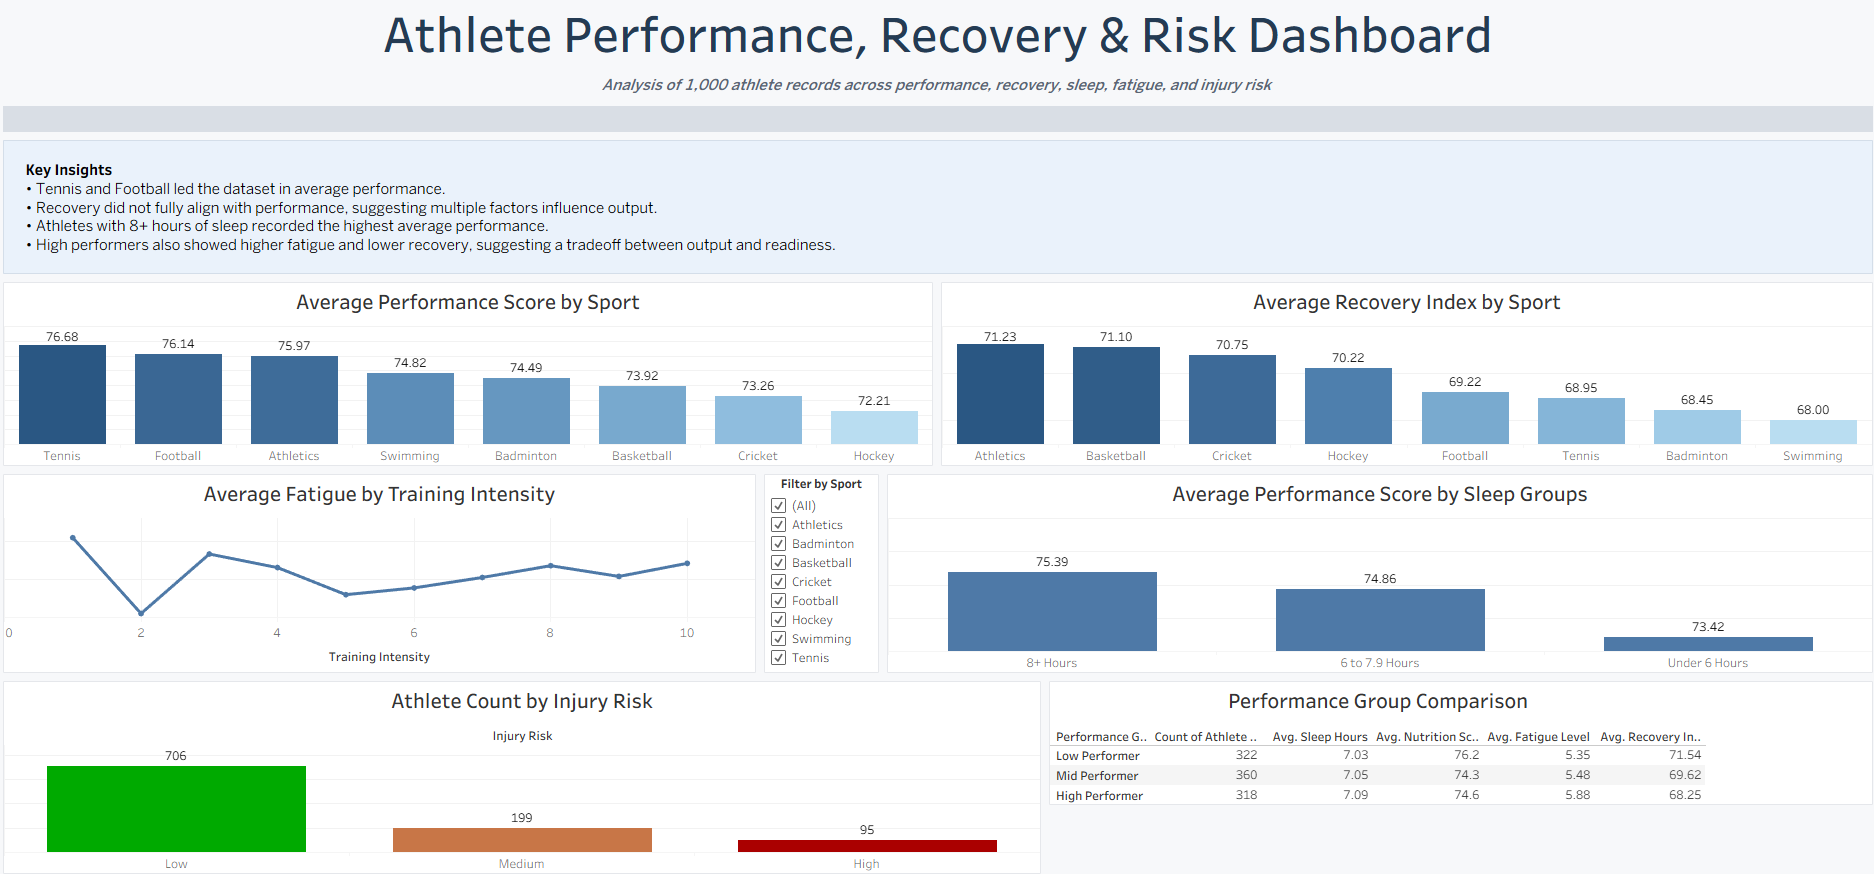

The dashboard page shown, as its layout file describes it:
{"tool":"tableau","page":{"name":"Dashboard 1","canvas":[1000,1000],"units":"permille","ordinal":0},"visuals":[{"type":"text","box":[4.7,8.9,990.6,77.8]},{"type":"text","box":[4.7,86.7,990.6,38.3]},{"type":"blank","box":[4.7,125.1,990.6,38.3]},{"type":"text","box":[4.7,163.4,990.6,158]},{"type":"worksheet","title":"Sheet 1","mark":"Automatic","rows":["performance_score"],"cols":["sport_type"],"box":[4.7,321.4,495,214.3]},{"type":"worksheet","title":"Sheet 1 (2)","mark":"Automatic","rows":["recovery_index"],"cols":["sport_type"],"box":[499.7,321.4,495.6,214.3]},{"type":"worksheet","title":"Sheet 1 (3)","mark":"Automatic","rows":["fatigue_level"],"cols":["training_intensity"],"box":[4.7,535.7,401.4,231]},{"type":"filter","title":"Sheet 1","param":"[federated.0yzj0ue05jbgga1gd9oak1k1bqnd].[none:sport_type:nk]","box":[406.1,535.7,65,231]},{"type":"worksheet","title":"Sheet 1 (4)","mark":"Automatic","rows":["performance_score"],"cols":["Calculation_1243604495970304"],"box":[471,535.7,524.3,231]},{"type":"worksheet","title":"Sheet 5","mark":"Automatic","rows":["athlete_id"],"cols":["injury_risk"],"box":[4.7,766.7,551.8,224.3]},{"type":"worksheet","title":"Sheet 6","mark":"Automatic","rows":["Calculation_1243604498481153"],"box":[556.4,766.7,438.9,224.3]}]}

Visuals, with their boxes on the dashboard's canvas, which has no fixed pixel size, in thousandths of its width and height (x1, y1, x2, y2). These are canvas units, not pixel positions in the 1874x874 screenshot, which may show the page scaled, cropped or inside an application window:
text: l=5, t=9, r=995, b=87
text: l=5, t=87, r=995, b=125
blank: l=5, t=125, r=995, b=163
text: l=5, t=163, r=995, b=321
"Sheet 1" worksheet: l=5, t=321, r=500, b=536
"Sheet 1 (2)" worksheet: l=500, t=321, r=995, b=536
"Sheet 1 (3)" worksheet: l=5, t=536, r=406, b=767
"Sheet 1" filter: l=406, t=536, r=471, b=767
"Sheet 1 (4)" worksheet: l=471, t=536, r=995, b=767
"Sheet 5" worksheet: l=5, t=767, r=556, b=991
"Sheet 6" worksheet: l=556, t=767, r=995, b=991
